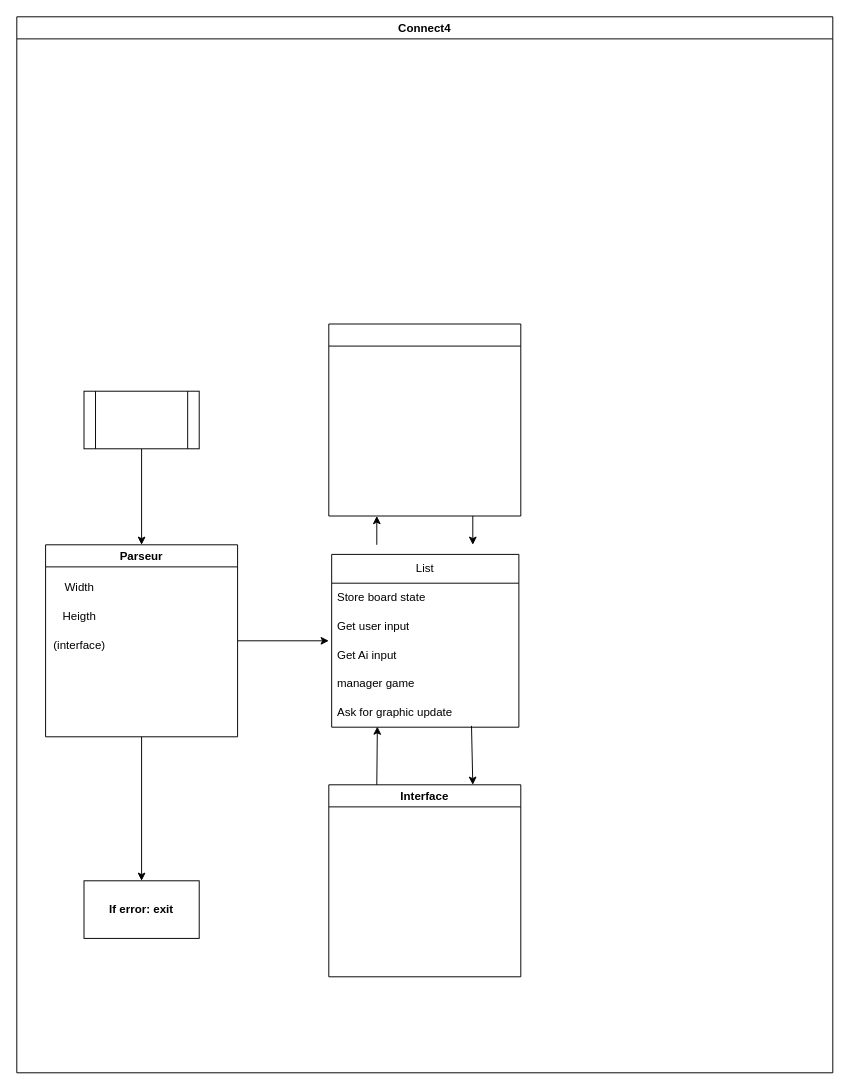
Image size: 850x1090. Some labels were removed from this diagram. Each missing label, with the centre of its shape:
AI: (424,419)
User: (141,419)
